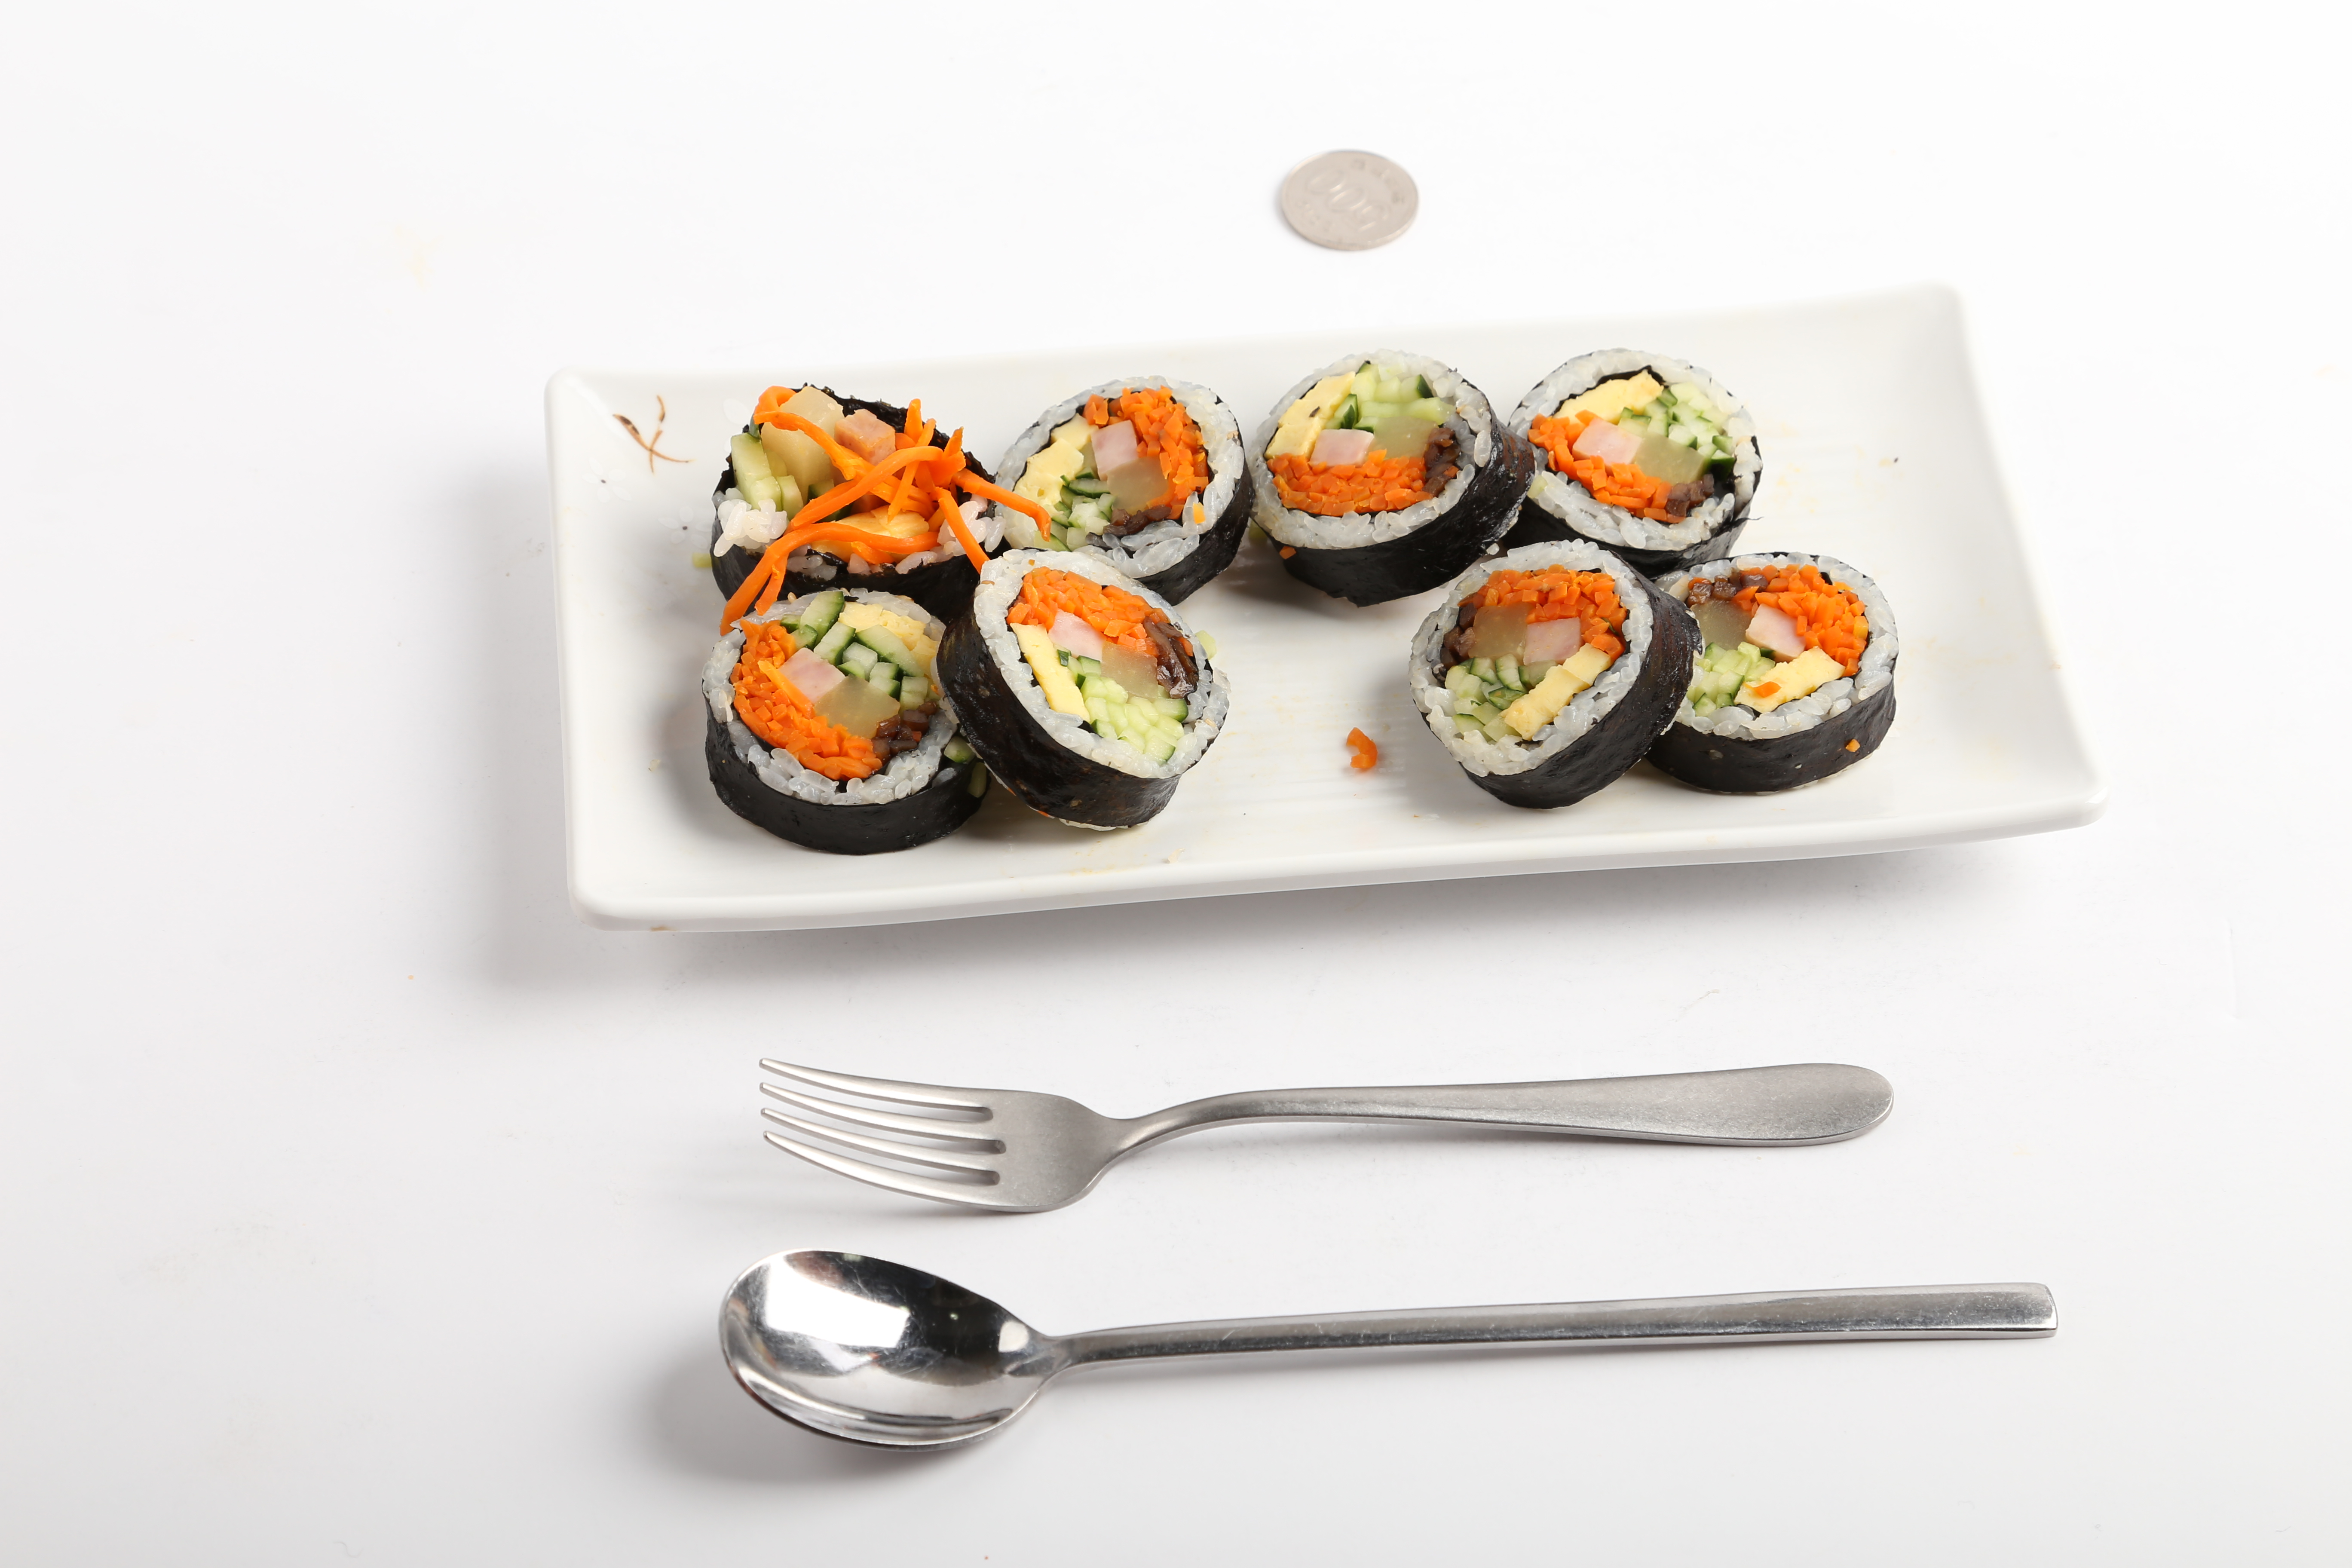dish: (544, 275, 2107, 941)
ref_coin: (1276, 140, 1423, 259)
ref_fork: (758, 1048, 1185, 1221)
ref_spoon: (716, 1237, 1139, 1451)
김밥: (698, 336, 1900, 859)
